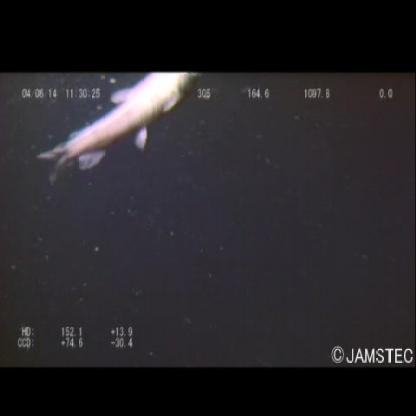Bio: (34, 72, 207, 185)
